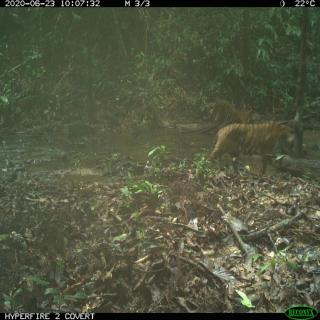Tiger: (208, 114, 293, 176)
